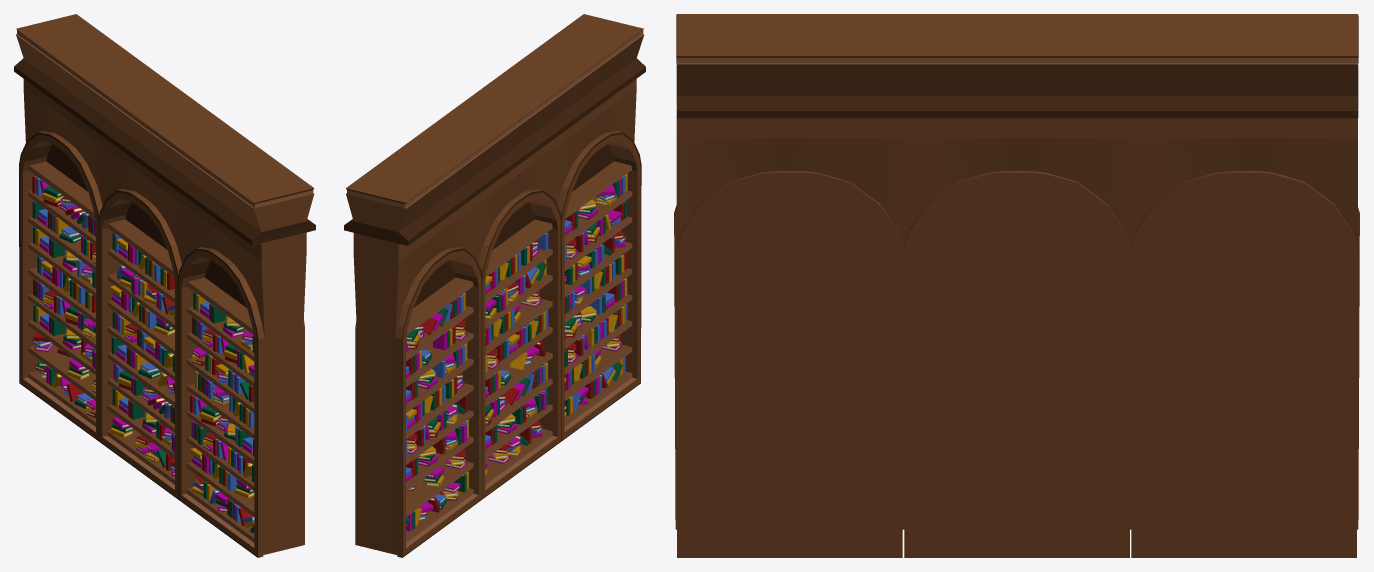
Rendered from muren_alleen.fbx.
3 renders of one model, left to right at view 1: azimuth 30°, elevation 25°; view 2: azimuth 150°, elevation 25°; view 3: azimuth 270°, elevation 25°, orthographic. The views are drawn at different scales.
Visible parts, largest first — view 1: main_closet1, books1; view 2: main_closet1, books1; view 3: main_closet1.
Part boxes in pixels (left/top/right/bottom): main_closet1: left=14, top=14, right=315, bottom=557; books1: left=32, top=175, right=254, bottom=533; main_closet1: left=344, top=14, right=645, bottom=557; books1: left=406, top=174, right=627, bottom=531; main_closet1: left=674, top=14, right=1359, bottom=557.
Bounding box in the file's own units: 2.75 × 14.6 × 17.82.
